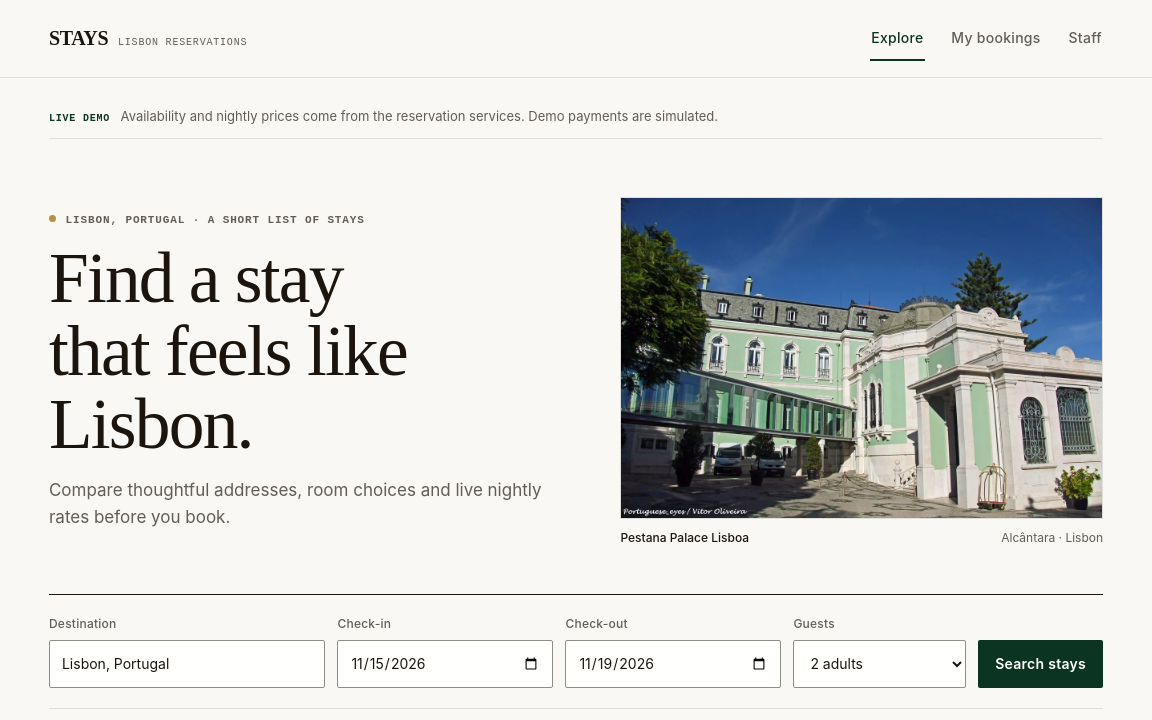
hotel reservation experience › reports staff catalog load errors
Click the button "Staff" at (1085, 38), box [1067, 16, 1103, 60]
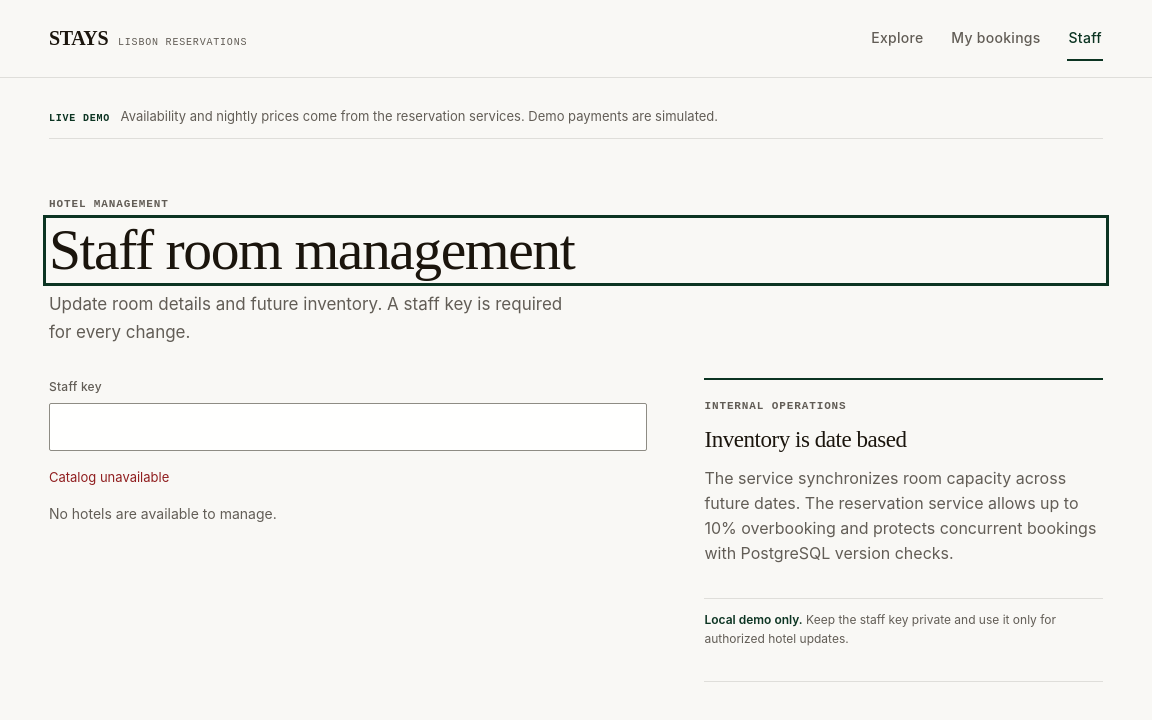
Check: the message reads "Catalog unavailable", box [49, 469, 169, 485]
